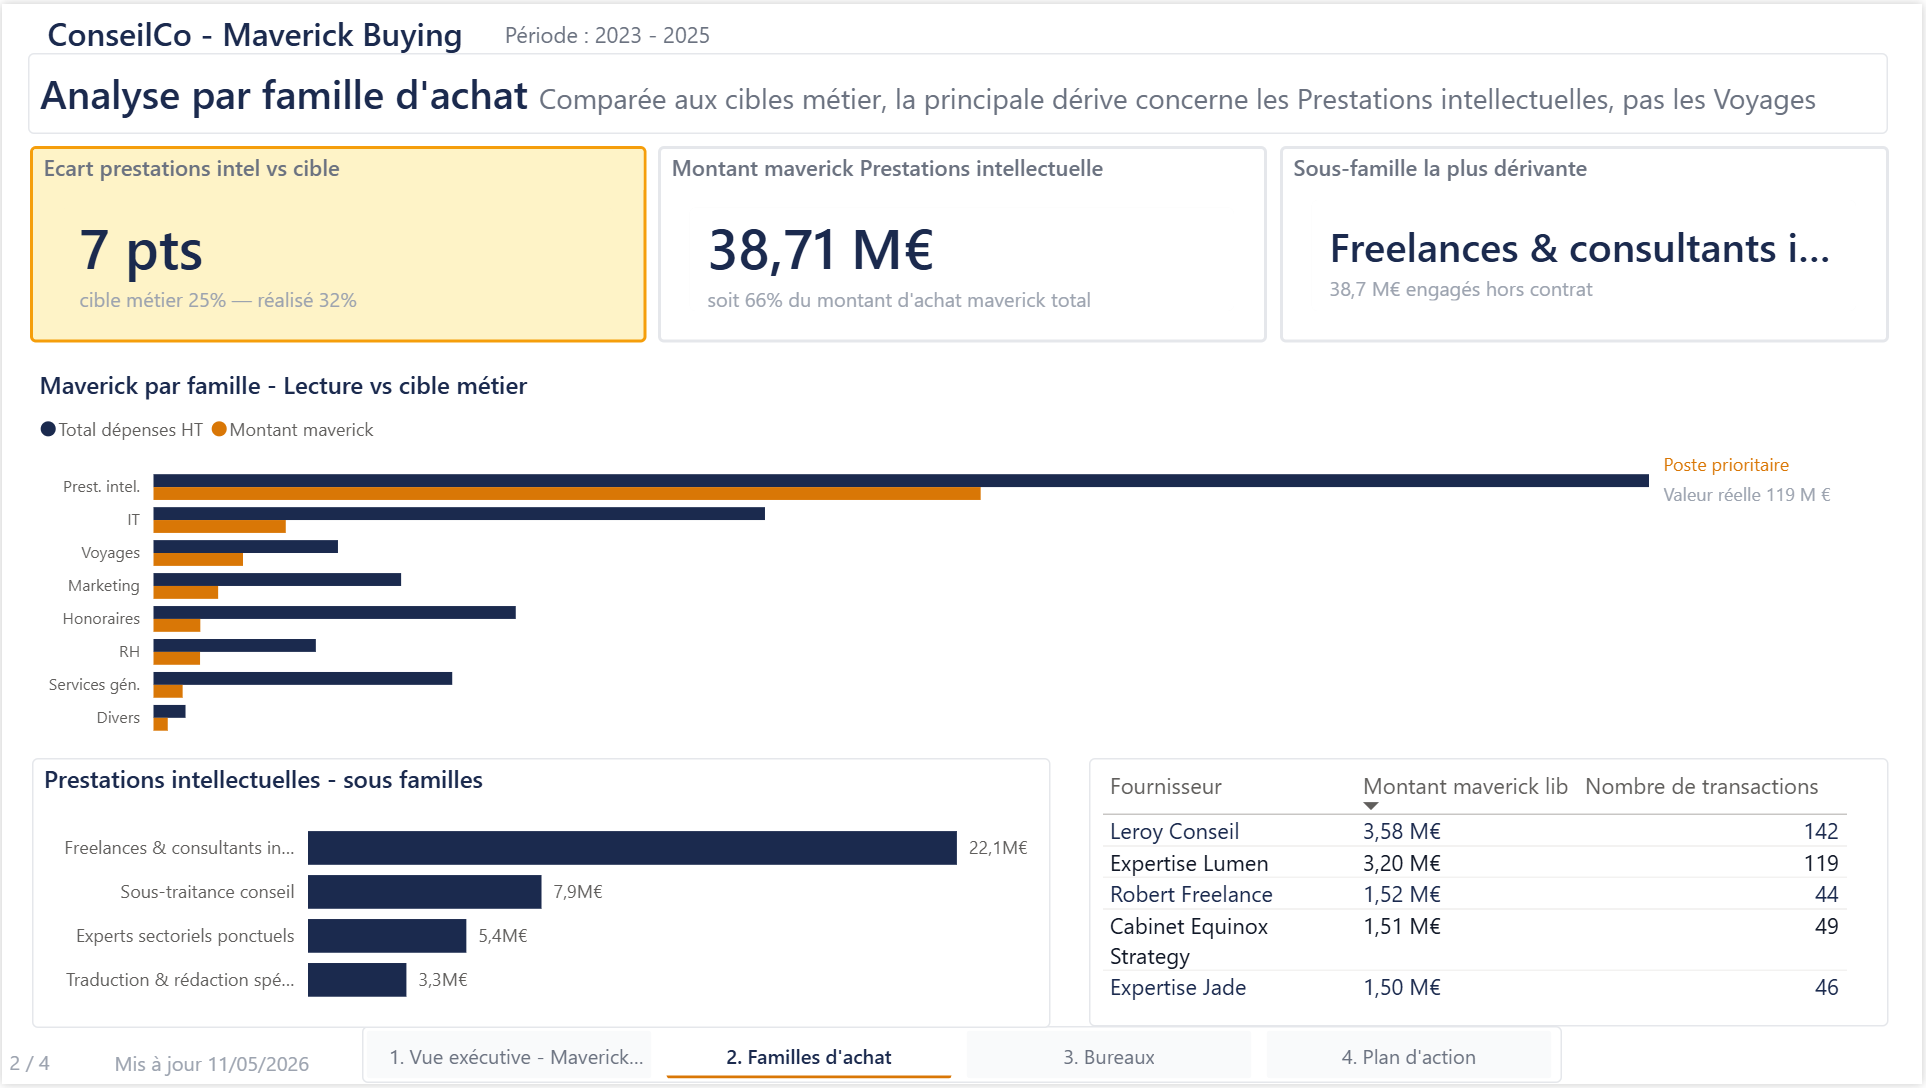

This screenshot's page, from the dashboard's own definition file:
{"tool":"powerbi","page":{"name":"2. Familles d'achat","canvas":[1280,720],"ordinal":1},"visuals":[{"type":"textbox","box":[20,0,303.5,42.9],"z":0},{"type":"textbox","box":[323.5,0,160.7,42.9],"z":1000},{"type":"textbox","box":[0,689.2,68.3,30],"z":2000},{"type":"pageNavigator","box":[281,682,800,38],"z":3000},{"type":"textbox","box":[17.5,32.5,1240,53.8],"z":4000},{"type":"cardVisual","title":"Sous-famille la plus dérivante","fields":{"Data":["Mesures.Top sous-famille F1"]},"box":[852,94.5,405.7,131.3],"z":5000},{"type":"cardVisual","title":"Montant maverick Prestations intellectuelle","fields":{"Data":["Mesures.Montant maverick lib"]},"box":[437.2,94.5,405.7,131.3],"z":6000},{"type":"cardVisual","title":"Ecart prestations intel vs cible ","fields":{"Data":["Mesures.Écart maverick pts (affichage)"]},"box":[18.4,94.5,410.9,131.3],"z":7000},{"type":"clusteredBarChart","title":"Maverick par famille - Lecture vs cible métier","fields":{"Category":["Catégories.Famille libellé court"],"Y":["Mesures.Total dépenses HT","Mesures.Montant maverick"]},"box":[19.5,239,1083.5,256.2],"z":8000},{"type":"textbox","box":[1102.9,290,162.9,58.6],"z":9000},{"type":"barChart","fields":{"Category":["Catégories.Sous-famille"],"Y":["Mesures.Montant maverick"]},"box":[19.7,502.8,678.7,179.9],"z":10000},{"type":"tableEx","fields":{"Values":["Fournisseurs.Fournisseur","Mesures.Montant maverick lib","Mesures.Nombre de transactions"]},"box":[698.6,503.3,559.6,178.1],"z":11000},{"type":"textbox","box":[70,695.3,156.5,24.7],"z":12000}]}

Visuals, with their boxes in screenshot pixels (x1, y1, x2, y2), scaled from the page's 1280x720 canvas onto the 1926x1088 screenshot:
textbox: 30:0:487:65
textbox: 487:0:729:65
textbox: 0:1041:103:1087
pageNavigator: 423:1031:1627:1087
textbox: 26:49:1892:130
"Sous-famille la plus dérivante" cardVisual: 1282:143:1892:341
"Montant maverick Prestations intellectuelle" cardVisual: 658:143:1268:341
"Ecart prestations intel vs cible " cardVisual: 28:143:646:341
"Maverick par famille - Lecture vs cible métier" clusteredBarChart: 29:361:1660:748
textbox: 1660:438:1905:527
barChart - Catégories.Sous-famille x Mesures.Montant maverick: 30:760:1051:1032
tableEx - Fournisseurs.Fournisseur x Mesures.Montant maverick lib: 1051:761:1893:1030
textbox: 105:1051:341:1087
